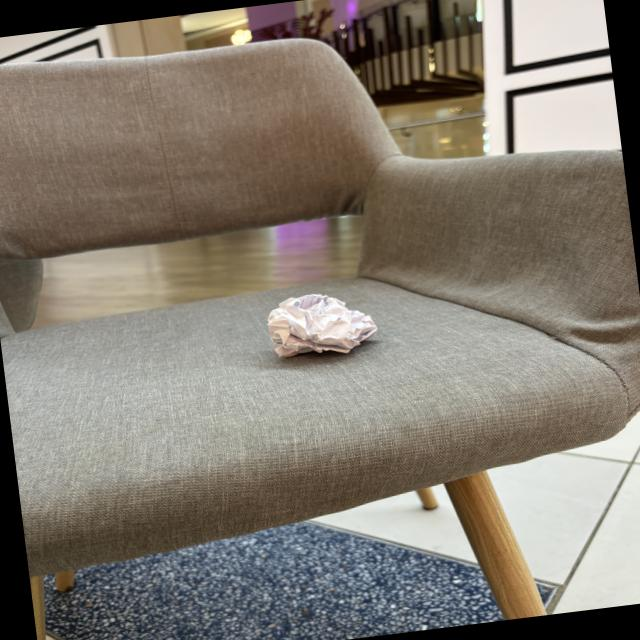crumpled_paper: (262, 282, 382, 368)
